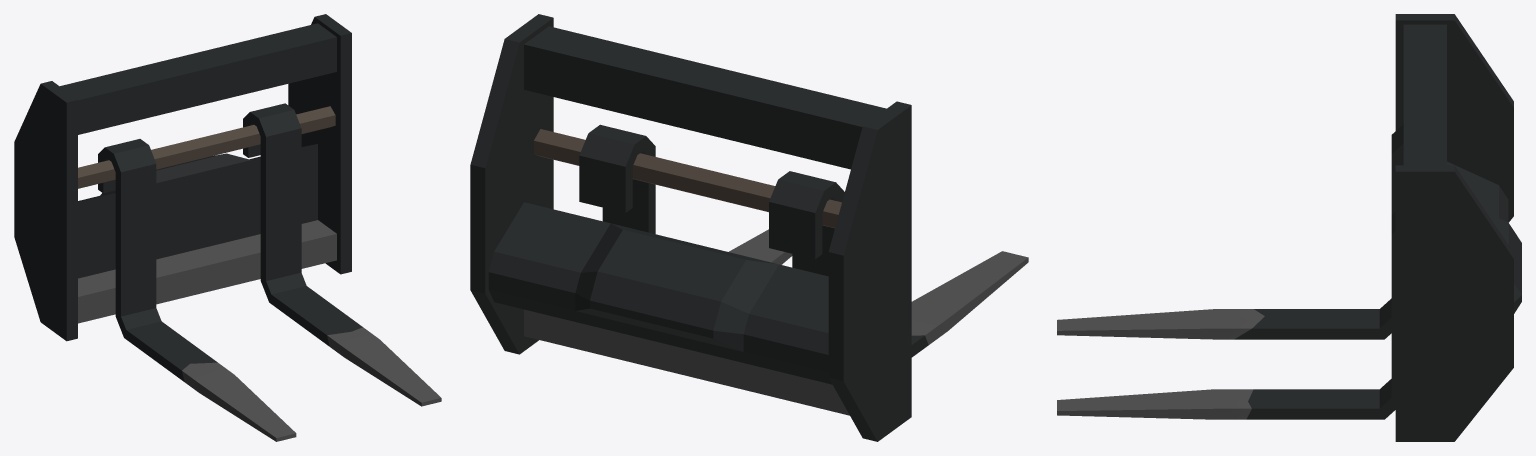
The model's file is SM_Veh_Telehandler_01_Forks.obj.
3 views of the same model, side by side, from view 1: azimuth 30°, elevation 25°; view 2: azimuth 150°, elevation 25°; view 3: azimuth 270°, elevation 25° (orthographic). The views are drawn at different scales.
Parts seen in each view (by area): view 1: SM_Veh_Telehandler_01_Forks_0; view 2: SM_Veh_Telehandler_01_Forks_0; view 3: SM_Veh_Telehandler_01_Forks_0.
Boxes of the visible parts, bbox=[...] form: SM_Veh_Telehandler_01_Forks_0: bbox=[14, 14, 441, 441]; SM_Veh_Telehandler_01_Forks_0: bbox=[470, 14, 1028, 441]; SM_Veh_Telehandler_01_Forks_0: bbox=[1057, 14, 1521, 441].
Size of the model in its own units: 2.14 by 1.75 by 2.66.
Materials: 1 (1 with a texture image).
